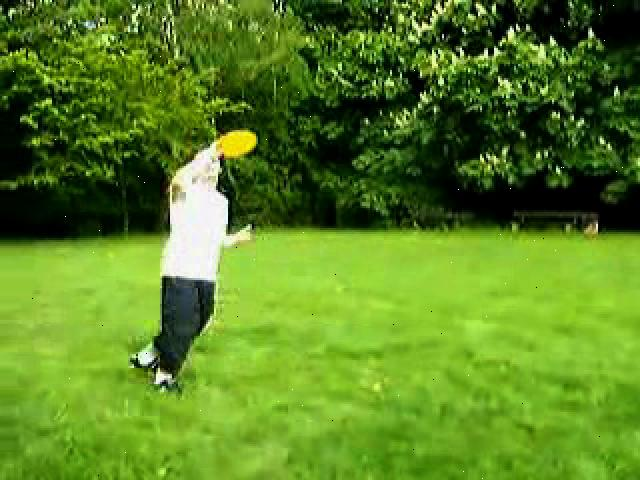T: (124, 122, 264, 417)
